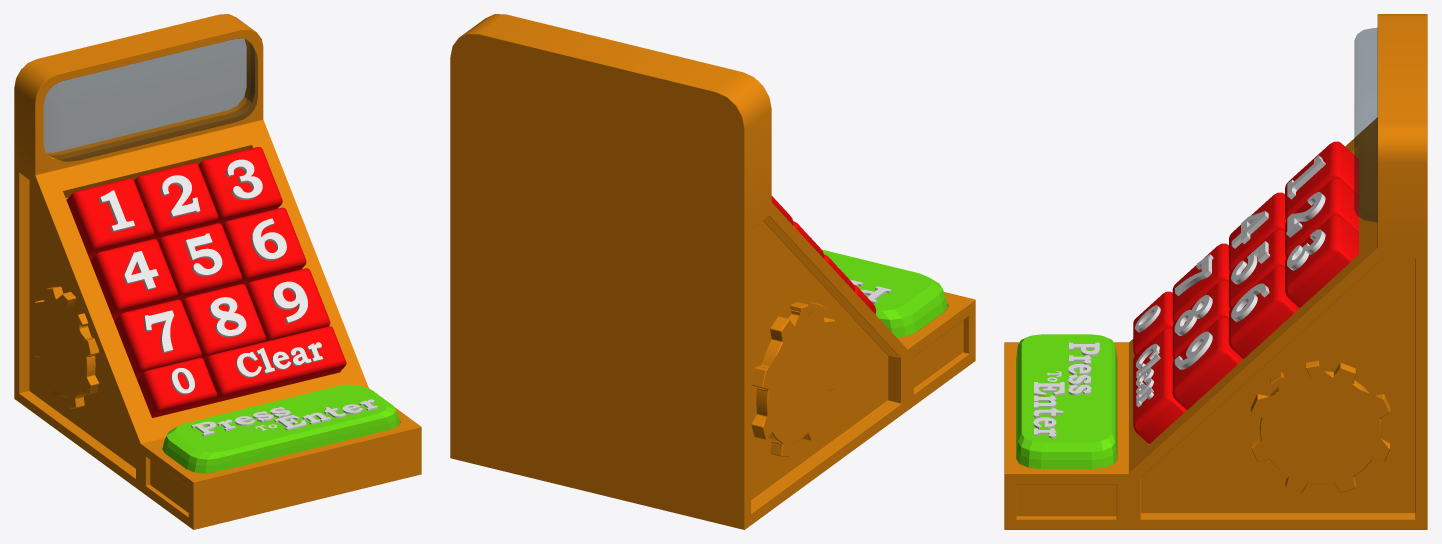
File: InputDevice.fbx
The picture shows the model from 3 angles, left to right: view 1: azimuth 30°, elevation 25°; view 2: azimuth 150°, elevation 25°; view 3: azimuth 270°, elevation 25°; orthographic projection. The views are drawn at different scales.
Parts seen in each view (by area): view 1: Cube, Glass, Screen, Cube.003, 0, Plane, 1, 4, 7, 5, 6, 2 (+4 smaller); view 2: Cube, Plane, Cube.003; view 3: Cube, Cube.003, Plane.001, Glass, 3, 0, 9, 6, 2, 1, 7, 8 (+3 smaller).
Part boxes in pixels (x1=…): Cube: x1=14, y1=14, x2=421, y2=529; Glass: x1=44, y1=39, x2=257, y2=161; Screen: x1=43, y1=38, x2=246, y2=152; Cube.003: x1=162, y1=384, x2=399, y2=473; 0: x1=204, y1=326, x2=346, y2=403; Plane: x1=32, y1=286, x2=99, y2=408; 1: x1=66, y1=178, x2=153, y2=260; 4: x1=90, y1=239, x2=177, y2=320; 7: x1=114, y1=299, x2=201, y2=379; 5: x1=158, y1=223, x2=242, y2=301; 6: x1=222, y1=207, x2=306, y2=285; 2: x1=134, y1=162, x2=218, y2=240; Cube: x1=450, y1=14, x2=975, y2=529; Plane: x1=751, y1=302, x2=838, y2=456; Cube.003: x1=821, y1=249, x2=947, y2=337; Cube: x1=1004, y1=14, x2=1427, y2=529; Cube.003: x1=1016, y1=334, x2=1117, y2=468; Plane.001: x1=1251, y1=360, x2=1390, y2=493; Glass: x1=1354, y1=28, x2=1377, y2=221; 3: x1=1285, y1=215, x2=1358, y2=307; 0: x1=1133, y1=328, x2=1186, y2=443; 9: x1=1172, y1=317, x2=1242, y2=409; 6: x1=1229, y1=266, x2=1298, y2=358; 2: x1=1285, y1=178, x2=1358, y2=257; 1: x1=1285, y1=141, x2=1358, y2=220; 7: x1=1172, y1=243, x2=1229, y2=322; 8: x1=1172, y1=280, x2=1229, y2=359.
Bounding box in the file's own units: 250 × 350 × 340.
